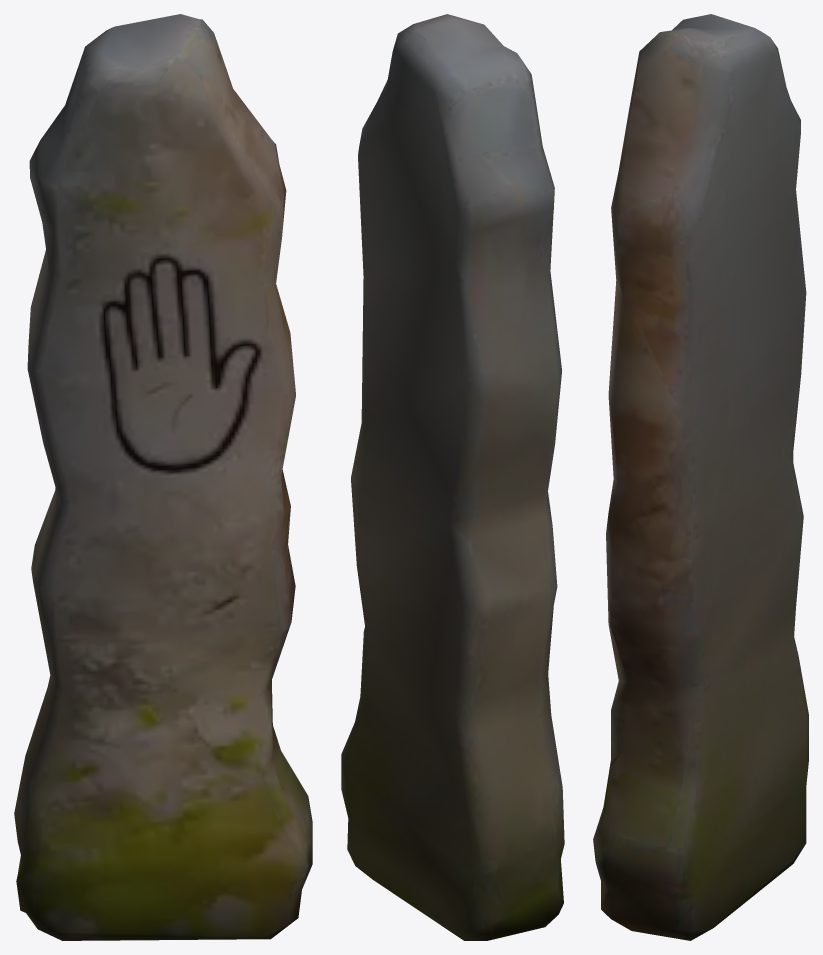
File: wyn_quest_boundary_stone.glb
The picture shows the model from 3 angles, left to right: view 1: azimuth 30°, elevation 25°; view 2: azimuth 150°, elevation 25°; view 3: azimuth 270°, elevation 25°; orthographic projection. The views are drawn at different scales.
Visible parts, largest first — view 1: tripo_node_d0900192-66bc-4ce8-9c75-08d6ed8d6c18; view 2: tripo_node_d0900192-66bc-4ce8-9c75-08d6ed8d6c18; view 3: tripo_node_d0900192-66bc-4ce8-9c75-08d6ed8d6c18.
Part boxes in pixels (box(x1,y1,x2,y2)): tripo_node_d0900192-66bc-4ce8-9c75-08d6ed8d6c18: box(14, 14, 312, 940); tripo_node_d0900192-66bc-4ce8-9c75-08d6ed8d6c18: box(341, 14, 564, 940); tripo_node_d0900192-66bc-4ce8-9c75-08d6ed8d6c18: box(593, 14, 808, 940).
Size of the model in its own units: 0.3844 by 1.3 by 0.2936.
Materials: 1 (1 with a texture image).
